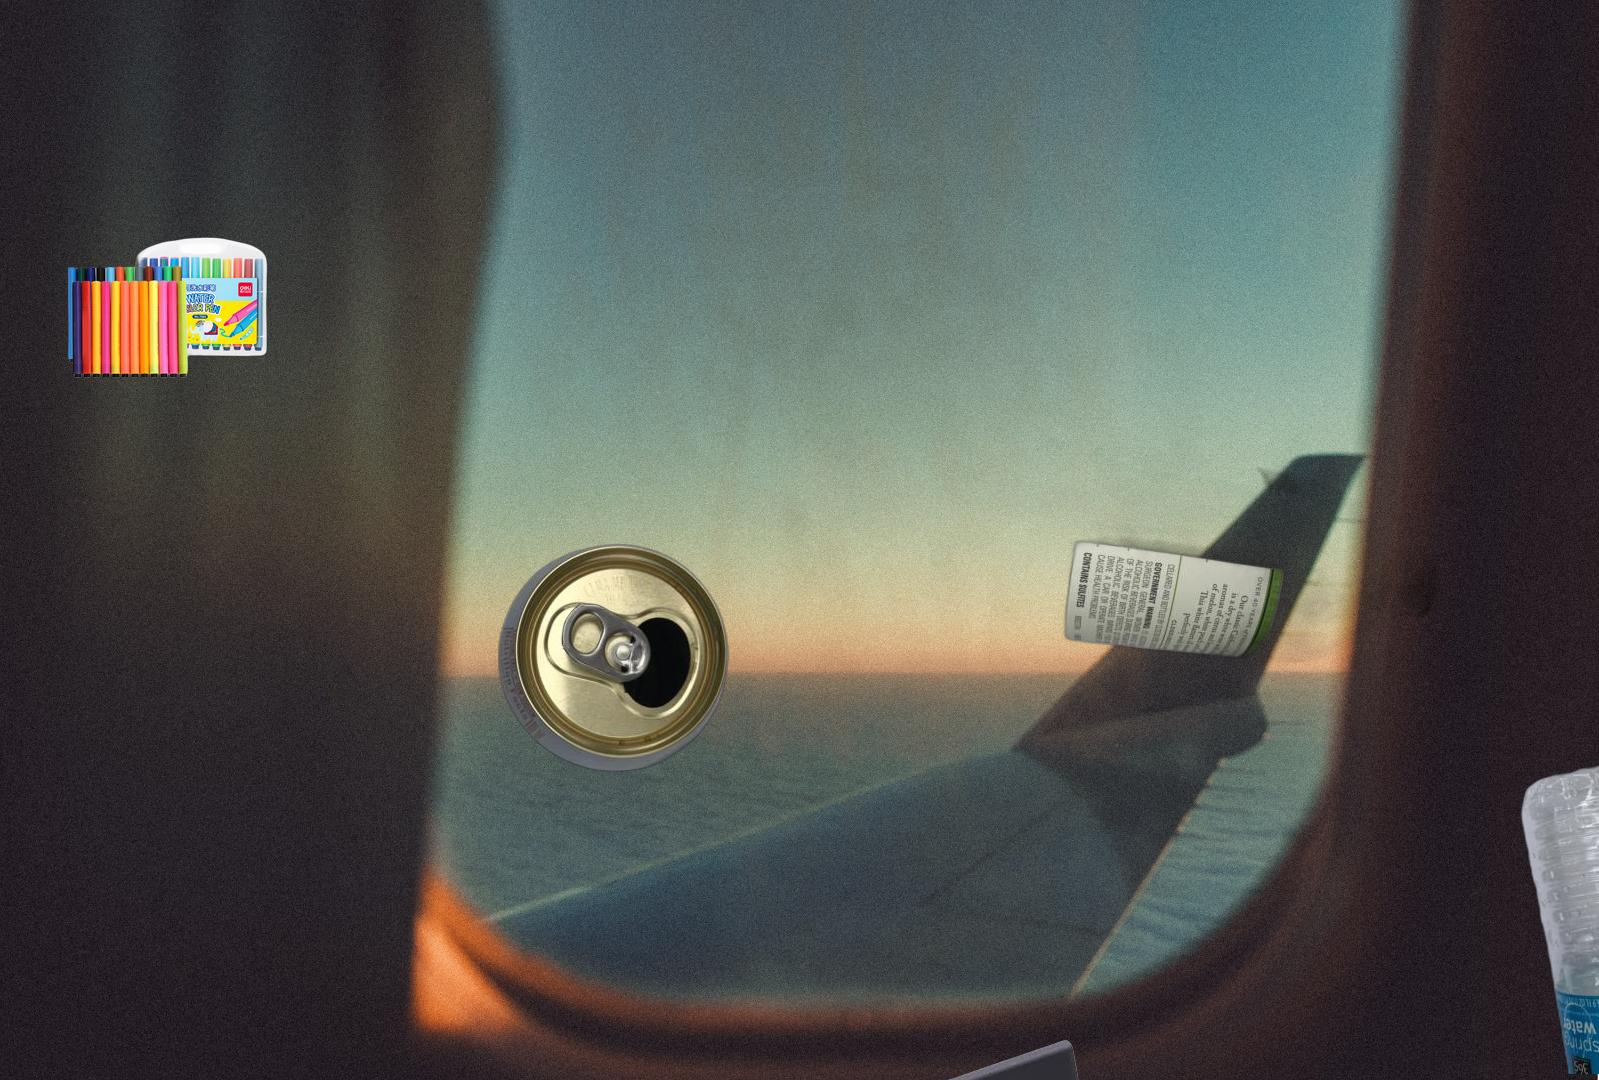battery: (887, 1037, 1096, 1080)
glass: (930, 413, 1442, 679)
metal-cans: (495, 541, 733, 774)
penholder: (65, 234, 270, 381)
plastic-bottles: (1517, 762, 1599, 1074)
